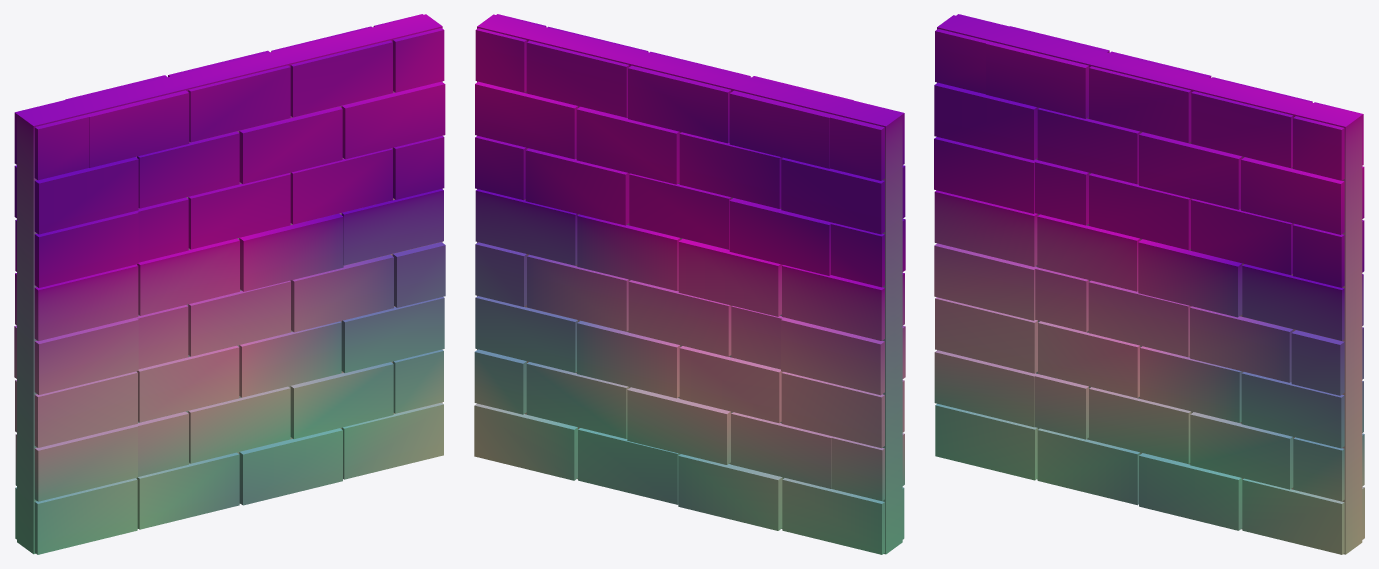
File: wall_4x4.glb
The picture shows the model from 3 angles, left to right: view 1: azimuth 30°, elevation 25°; view 2: azimuth 150°, elevation 25°; view 3: azimuth 330°, elevation 25°; orthographic projection.
Parts seen in each view (by area): view 1: wall_4x4; view 2: wall_4x4; view 3: wall_4x4.
Part boxes in pixels (left/top/right/bottom): wall_4x4: left=14, top=14, right=445, bottom=554; wall_4x4: left=474, top=14, right=905, bottom=554; wall_4x4: left=934, top=14, right=1364, bottom=554.
Bounding box in the file's own units: 4 × 4 × 0.4291.
